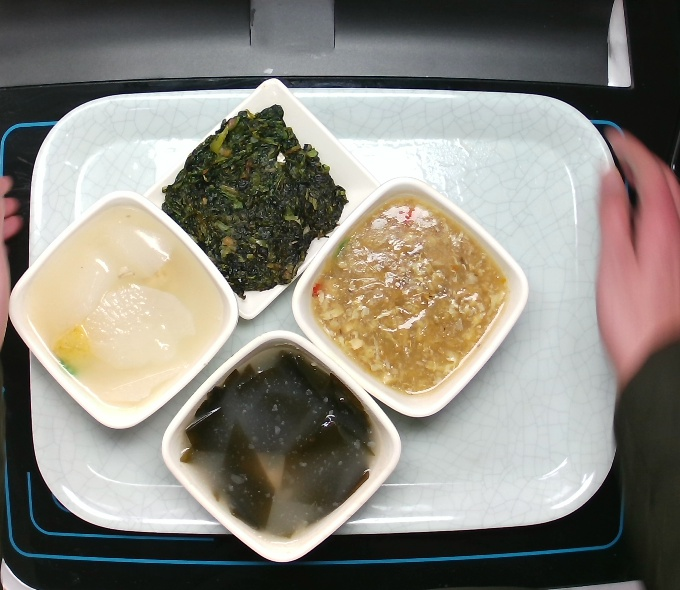wcq-HaiDaiPaiGuTang: (178, 345, 382, 543)
wcq-LuoBoYouPaoTang: (18, 203, 229, 415)
wcq-QinCaiBing: (157, 102, 350, 298)
wcq-SuanLaGeng: (310, 192, 510, 398)
